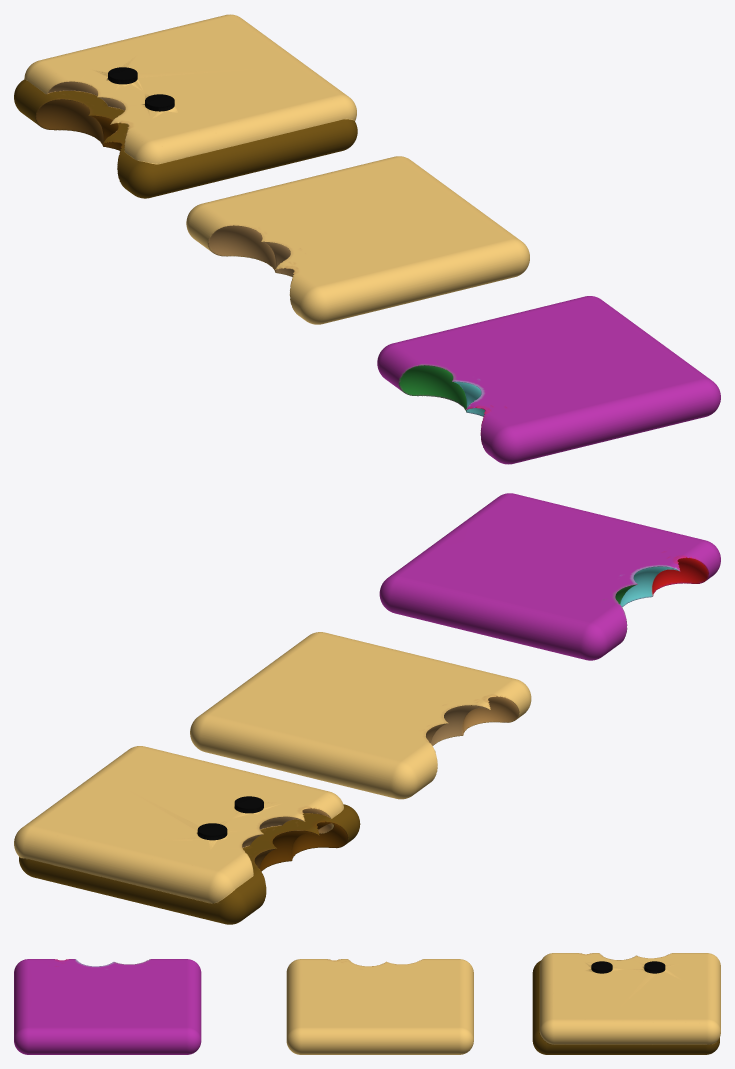
File: cookies.glb
3 renders of one model, top to bottom at view 1: azimuth 30°, elevation 25°; view 2: azimuth 150°, elevation 25°; view 3: azimuth 270°, elevation 25°, orthographic. The views are drawn at different scales.
Parts seen in each view (by area): view 1: Area (1); view 2: Area (1); view 3: Area (1).
Boxes of the visible parts, <box> form: Area (1): <box>14,14,720,464</box>; Area (1): <box>14,493,720,924</box>; Area (1): <box>14,953,720,1054</box>.
Size of the model in its own units: 57.94 by 13.2 by 215.
Materials: 1 (1 with a texture image).
